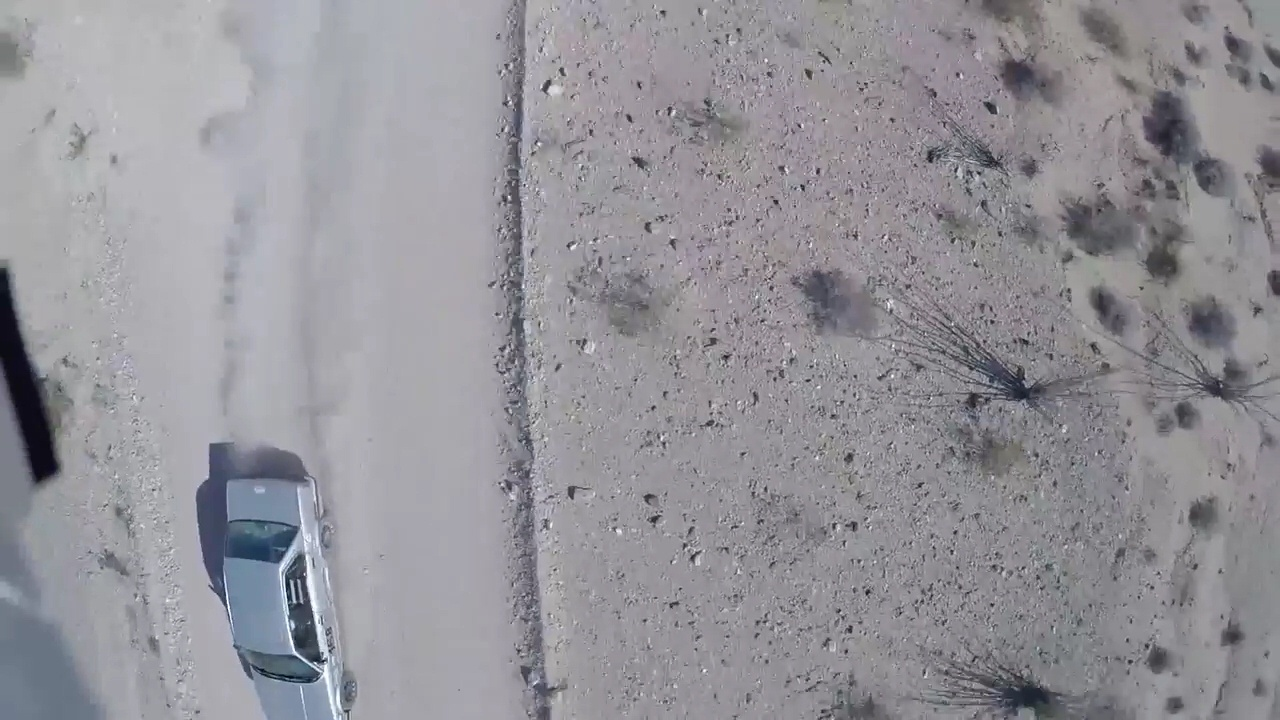araba: (218, 472, 363, 720)
